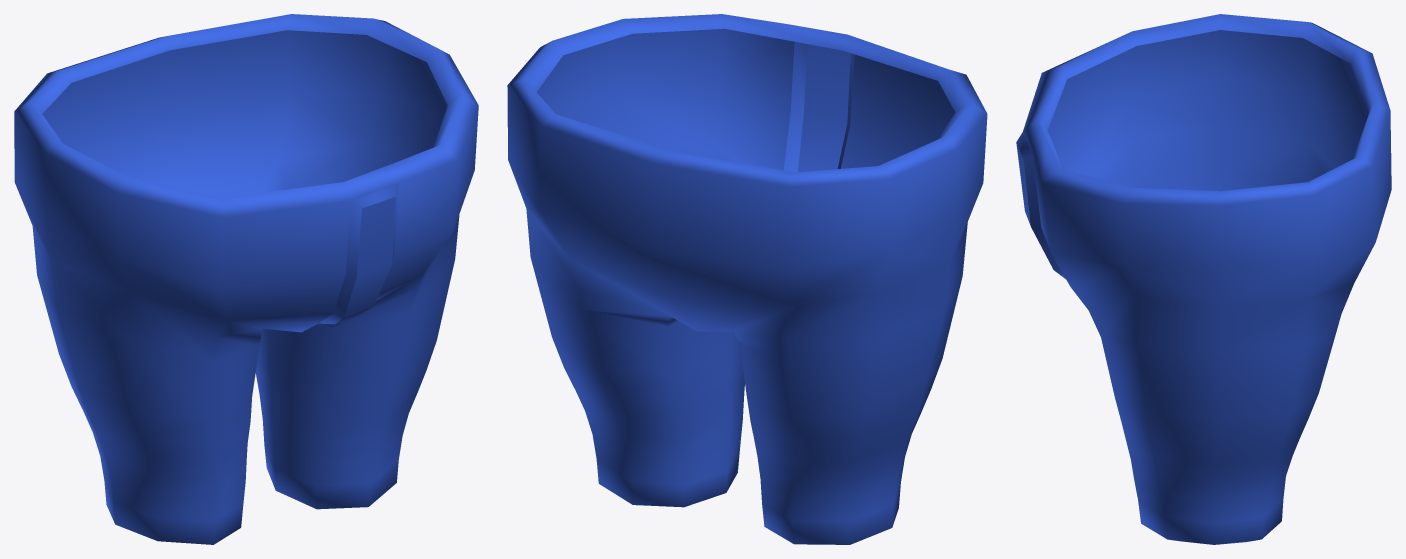
File: Bottom_Fat.fbx
3 renders of one model, left to right at view 1: azimuth 30°, elevation 25°; view 2: azimuth 150°, elevation 25°; view 3: azimuth 270°, elevation 25°, orthographic. The views are drawn at different scales.
Parts seen in each view (by area): view 1: Bottom_57; view 2: Bottom_57; view 3: Bottom_57.
Boxes of the visible parts, bbox=[...] form: Bottom_57: bbox=[14, 14, 478, 544]; Bottom_57: bbox=[507, 14, 987, 544]; Bottom_57: bbox=[1016, 14, 1391, 544].
Bounding box in the file's own units: 52.4 × 50.57 × 44.09.
